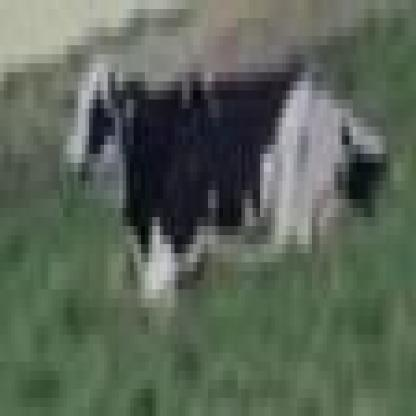cow: (63, 50, 386, 303)
